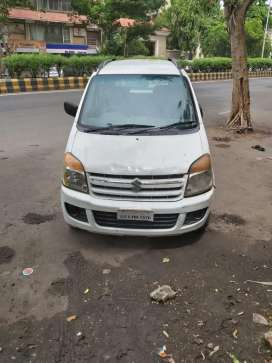license_plate: (117, 210, 154, 222)
